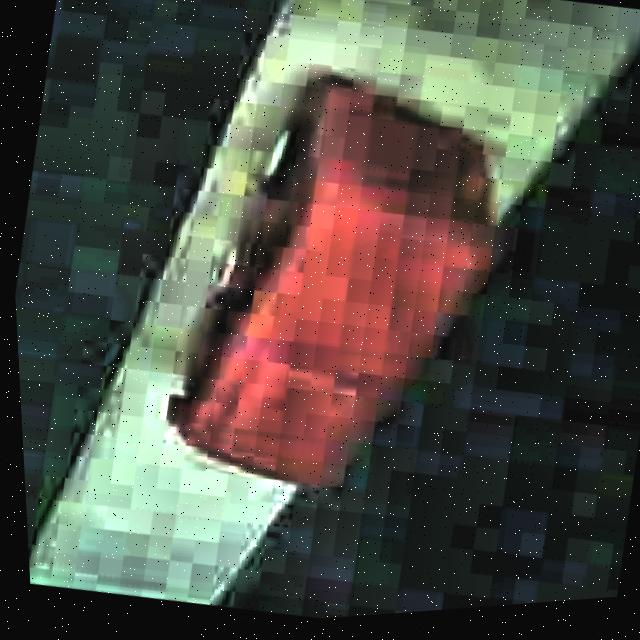bus: (134, 29, 541, 531)
